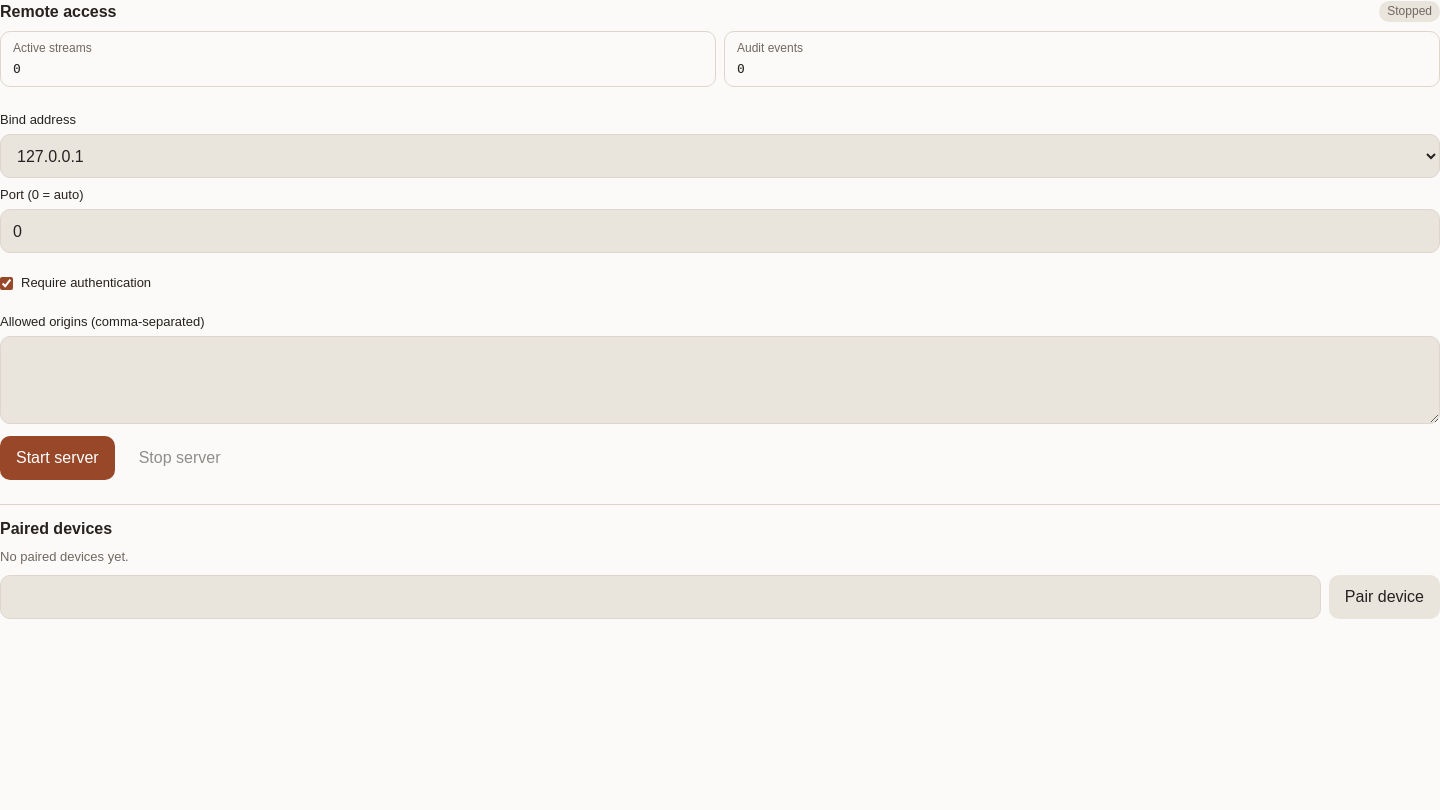
Test: RemoteAccessPanel › pairs a device, shows the token once and copies it
The width and height of the screenshot is (1440, 810).
Expected: the text "No paired devices yet." is shown, left=0, top=549, right=129, bottom=564
Click the button "Pair device" at (1384, 596), box left=1329, top=574, right=1439, bottom=618
(page scrolled)
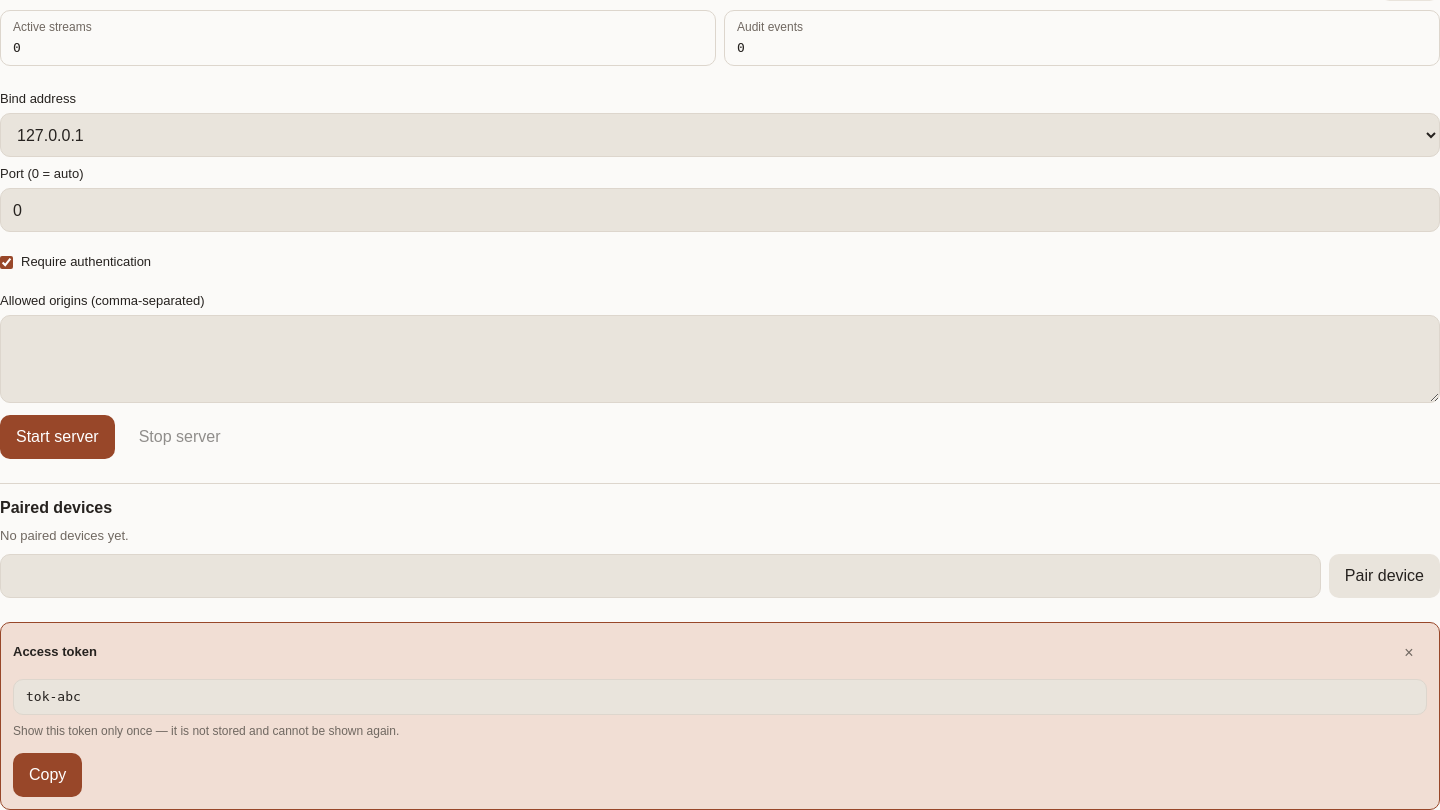
Expected: the text "tok-abc" is shown, left=13, top=678, right=1427, bottom=715
Expected: the text "Show this token only once — it is not stored and cannot be shown again." is shown, left=13, top=724, right=399, bottom=738
Click the button "Copy" at (48, 775), box left=13, top=753, right=82, bottom=797
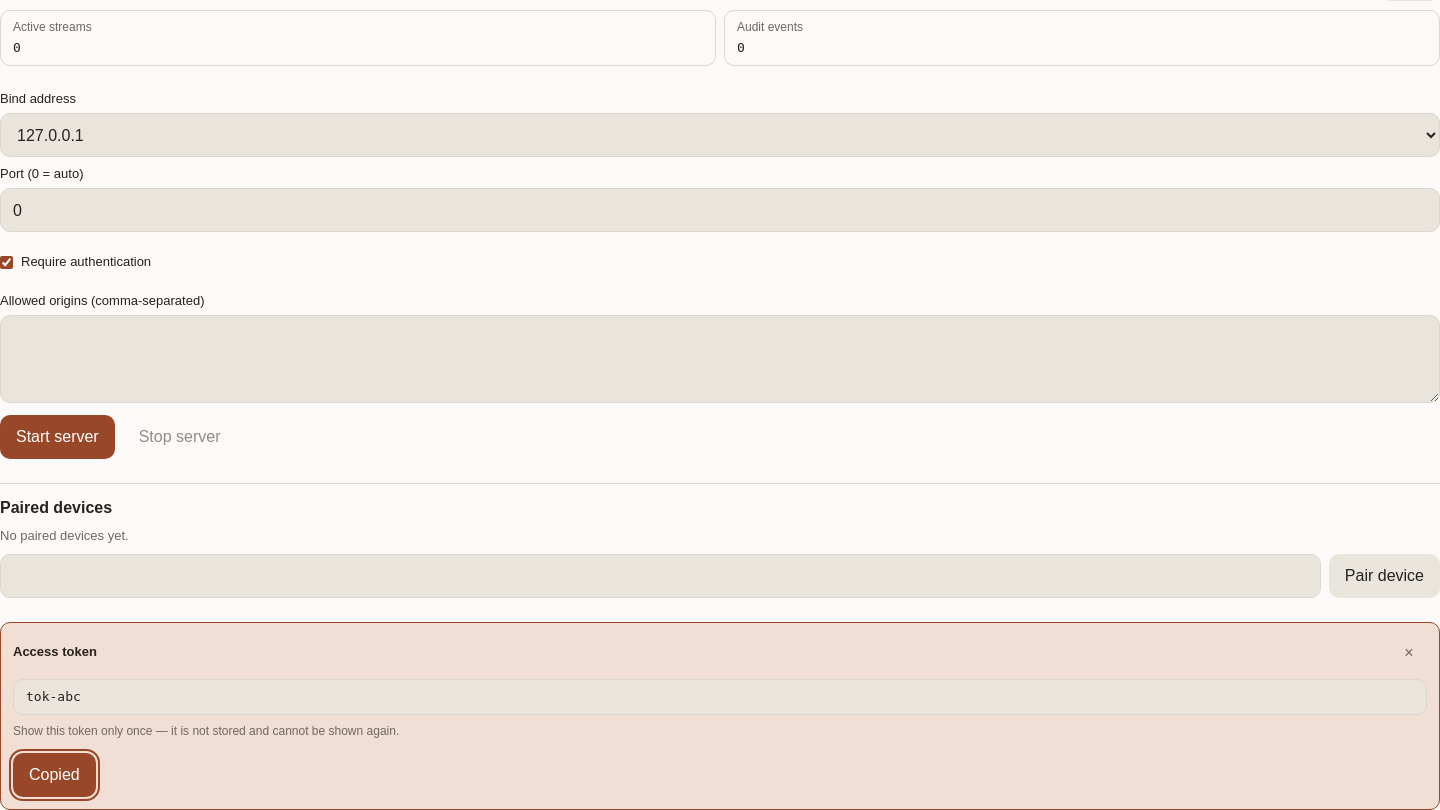
Expected: the button "Copied" is shown, left=13, top=753, right=96, bottom=797
